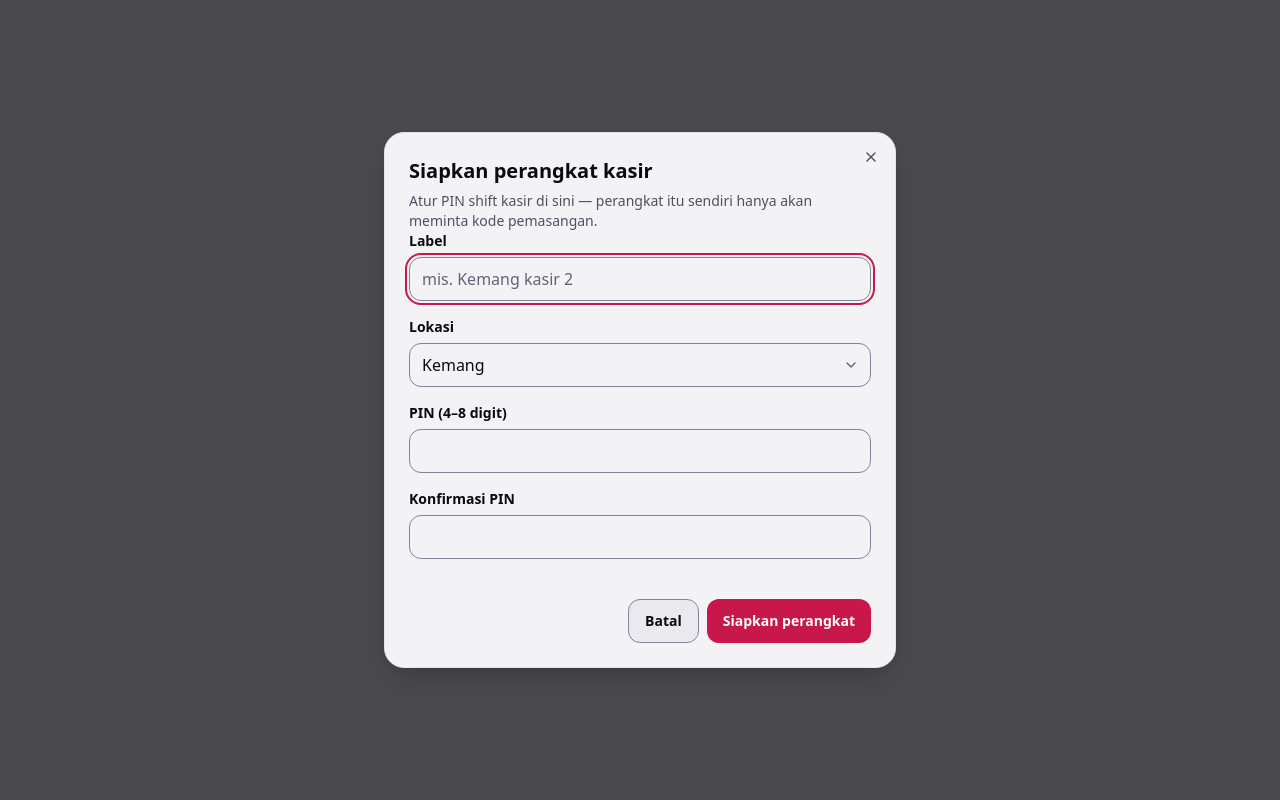
it: TeamProvisionDeviceDialog › writes the expiry in Indonesian for an Indonesian viewer
Step 1. Type "Counter 1" into the field → (640, 279), box 409,257 -> 871,301
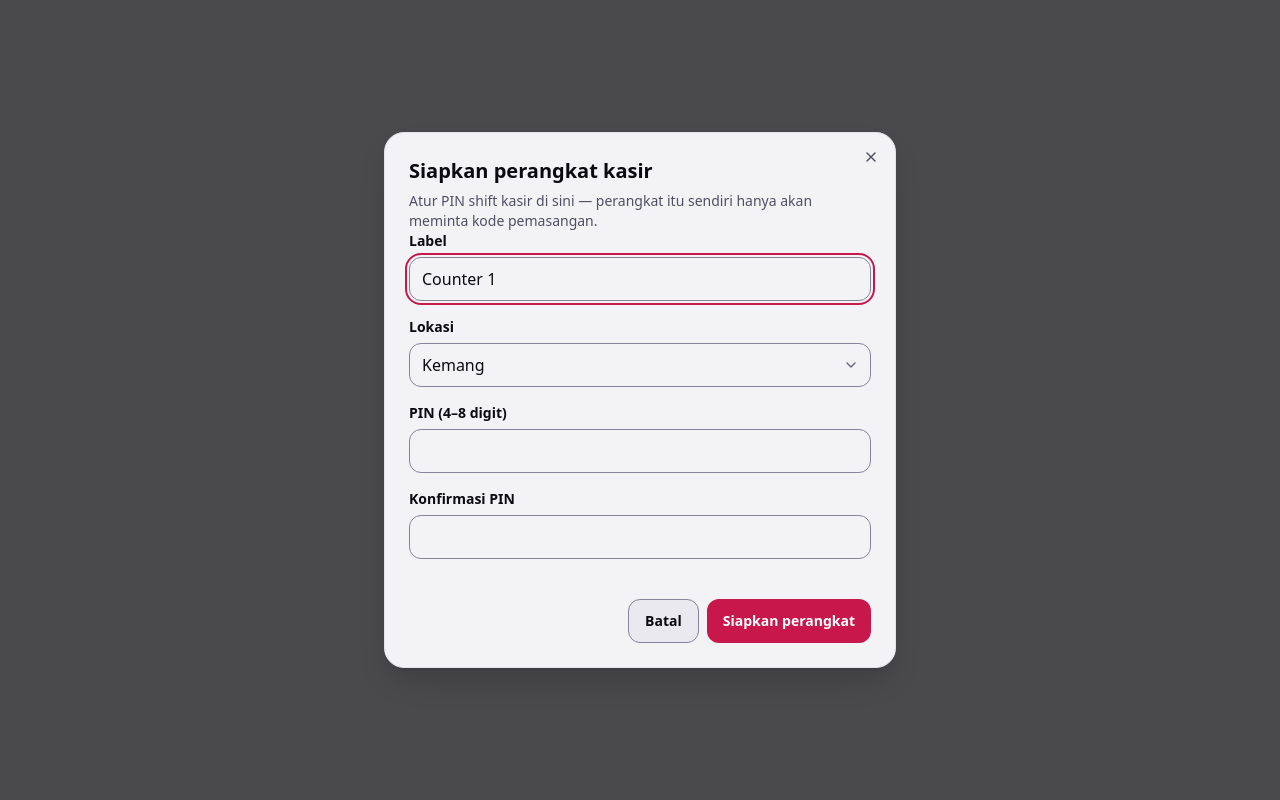
Step 2. Type "1234" into the password field labelled "PIN (4–8 digit)" → (640, 451), box 409,429 -> 871,473
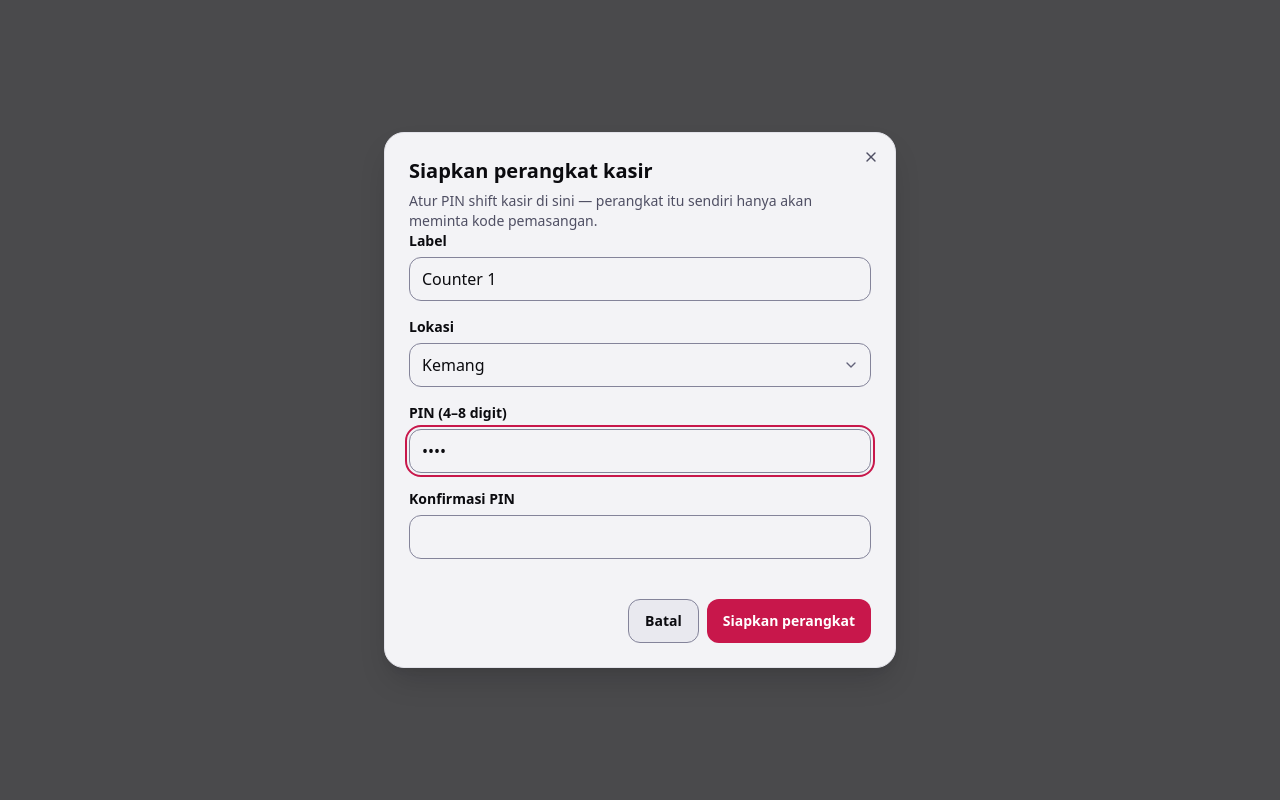
Step 3. Type "1234" into the password field labelled "Konfirmasi PIN" → (640, 537), box 409,515 -> 871,559
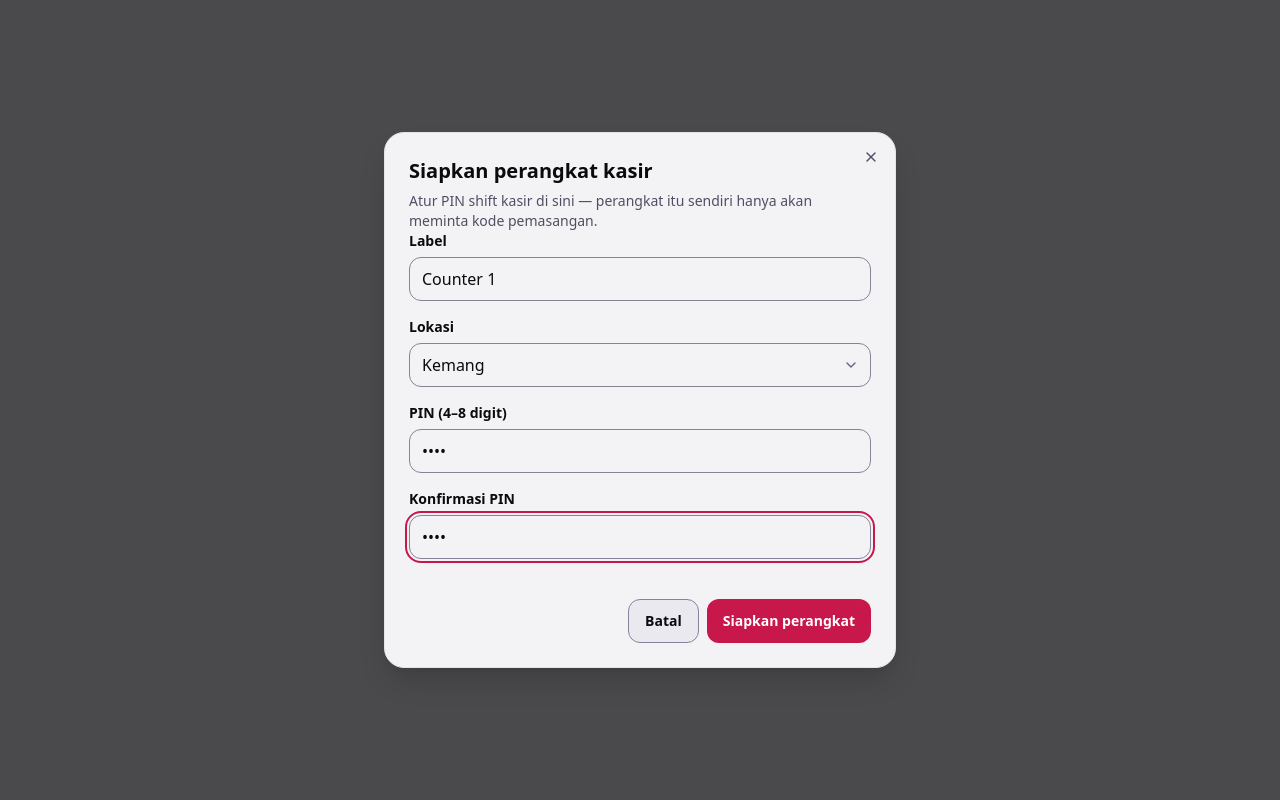
Step 4. Click the button "Siapkan perangkat" → (789, 621), box 707,599 -> 871,643
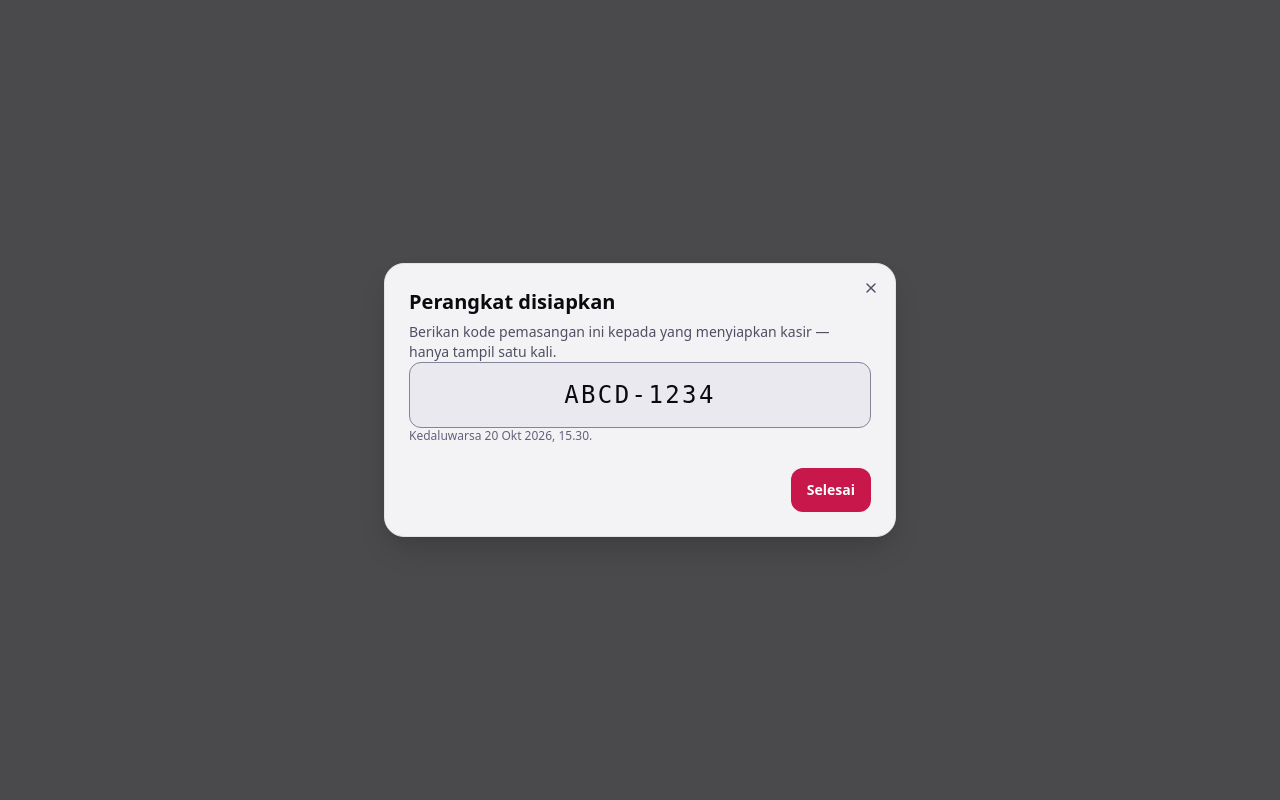
expect the text "Kedaluwarsa 20 Okt 2026, 15.30." is shown: met, box 409,427 -> 592,444
